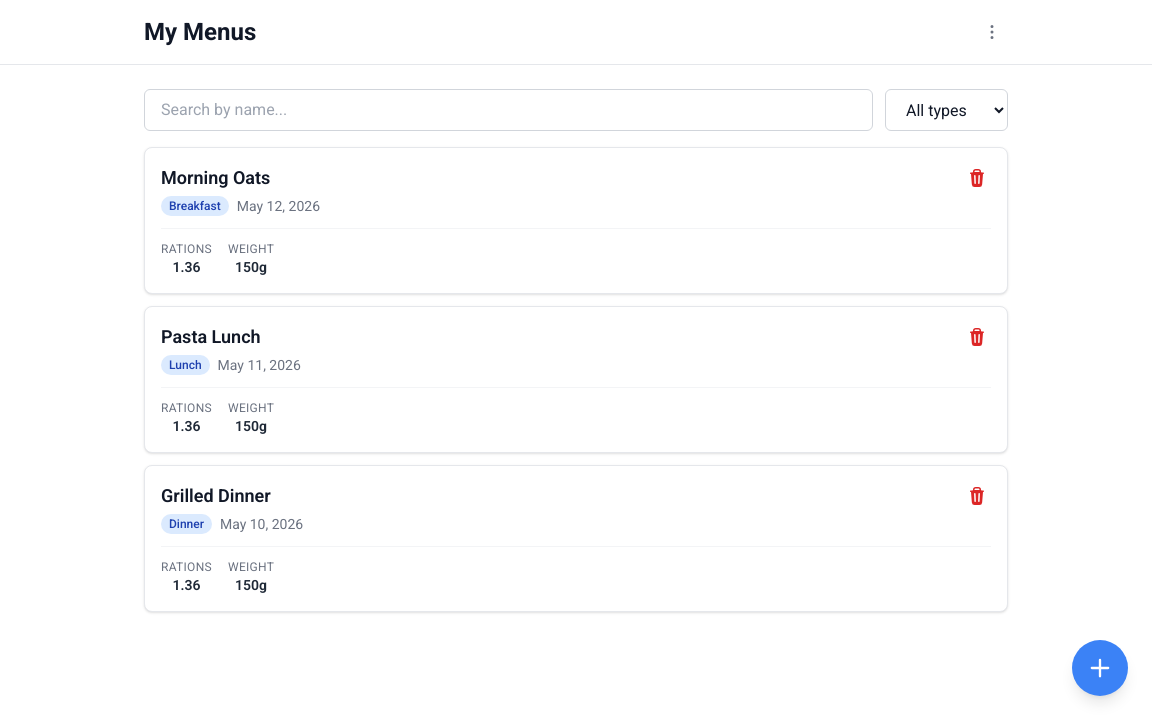
Test: HomePage — type filter + combined AND filter (T023) › filters by type when a type is selected
Select "Breakfast" in the dropdown at (946, 110), box [885,89,1008,131]
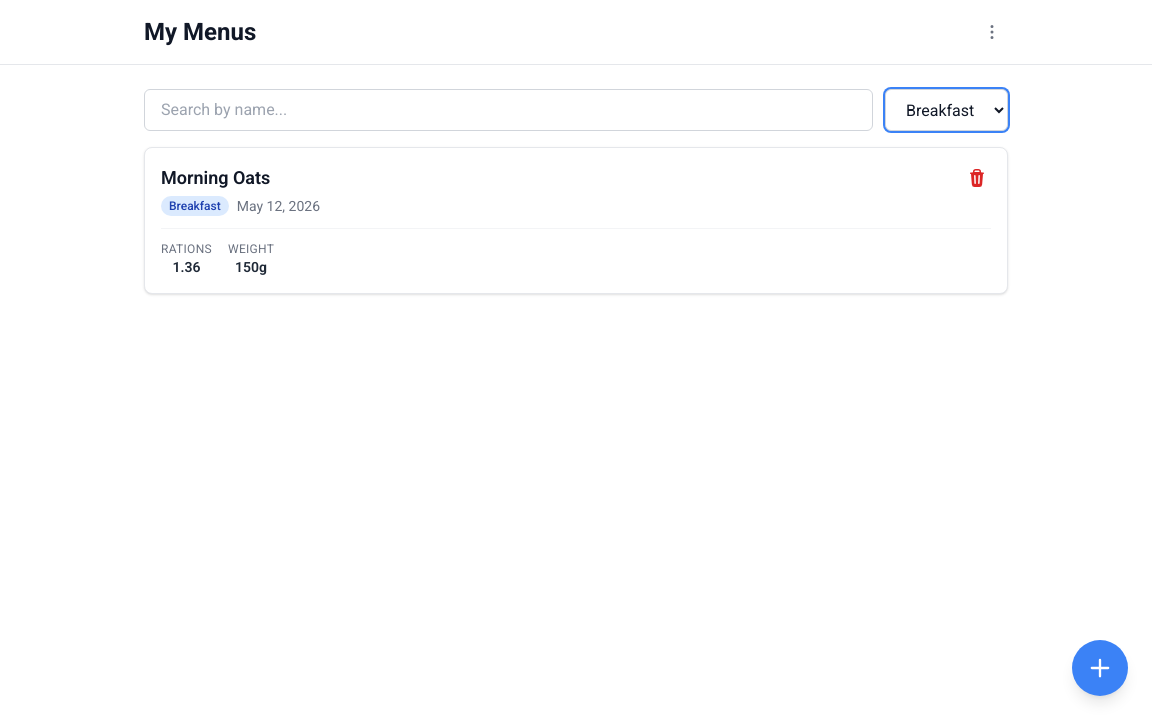
Expected: the heading "Morning Oats" is shown, [161,167,270,188]
Now the link "Pasta Lunch" is gone
